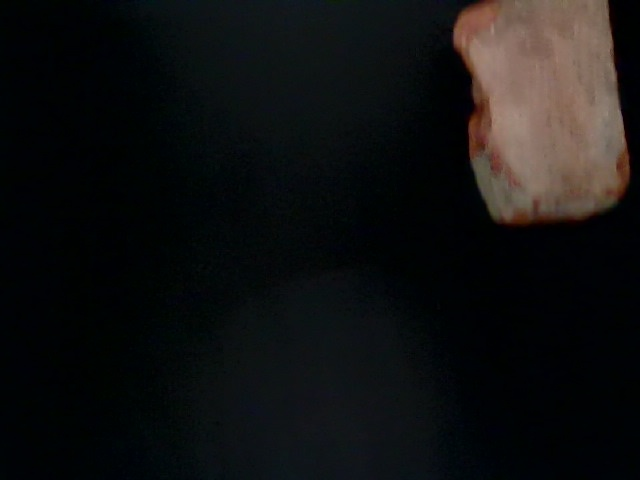KHSLJ: (1, 52, 295, 371)
